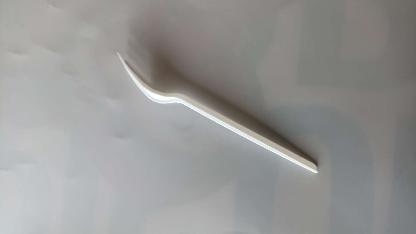Others: (110, 47, 320, 179)
